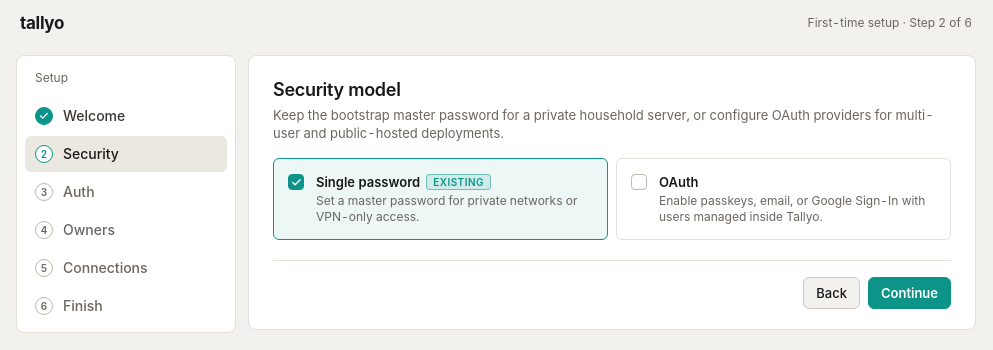
Scenario: setup wizard pages › routes the stepper Auth entry to password setup when a password is enabled
Click the button "Continue".
click(910, 293)  # box [868, 277, 951, 309]
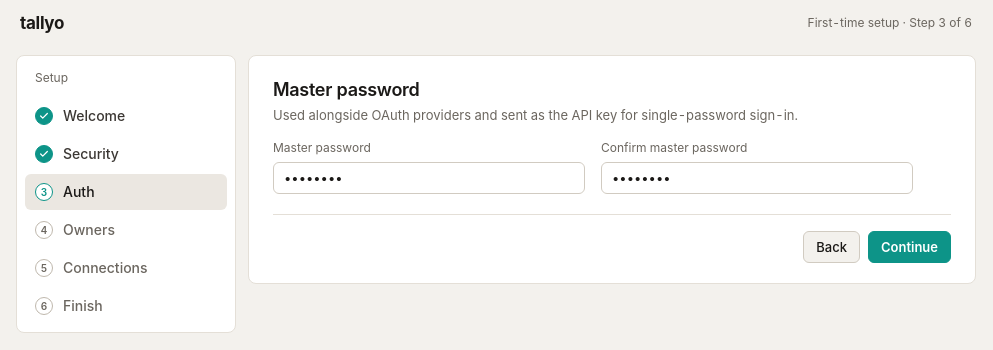
Type "master-password-sixteen" into the password field labelled "Master password".
click(429, 178); type("master-password-sixteen")  # box [273, 162, 585, 194]
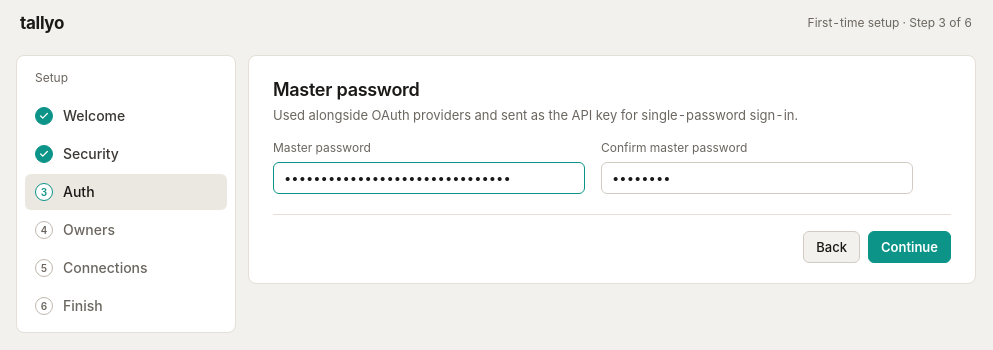
Type "master-password-sixteen" into the password field labelled "Confirm master password".
click(757, 178); type("master-password-sixteen")  # box [601, 162, 913, 194]
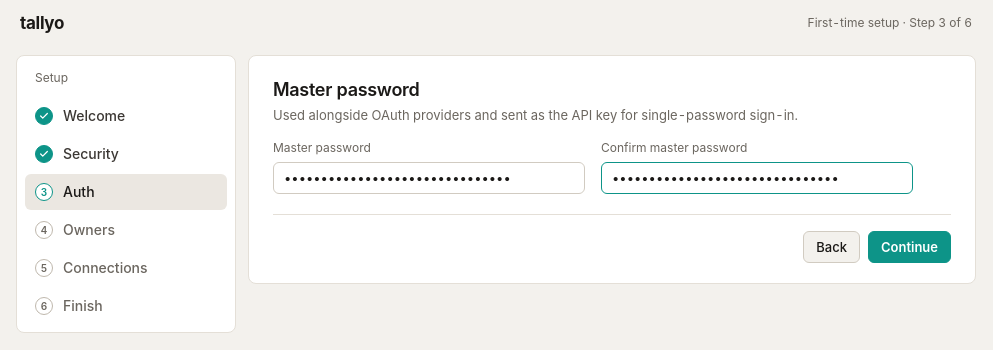
Click the button "Continue".
click(910, 247)  # box [868, 231, 951, 263]
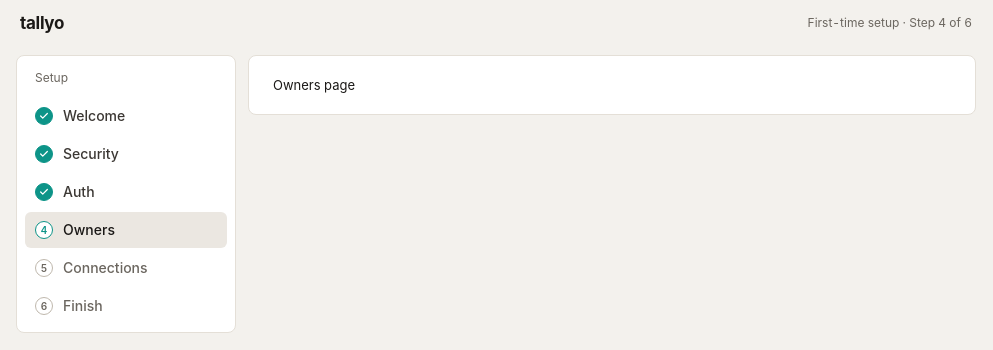
expect the heading "Owners page" is shown: met, box [273, 77, 355, 93]
Click the button "Auth".
click(126, 192)  # box [25, 174, 227, 210]
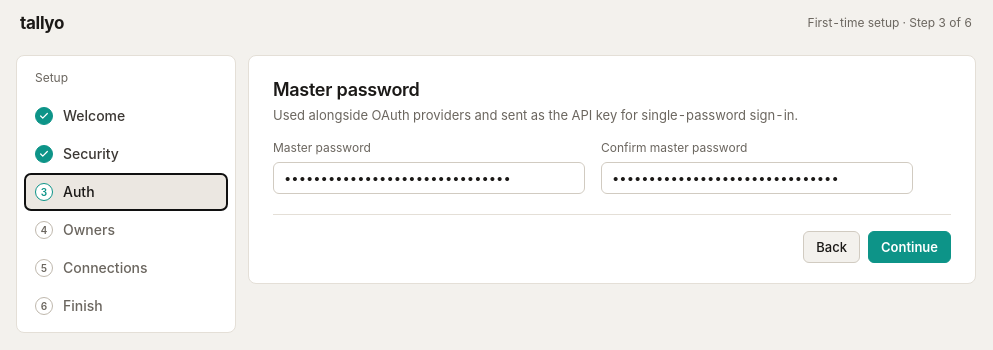
expect the heading "Master password" is shown: met, box [273, 79, 419, 100]
